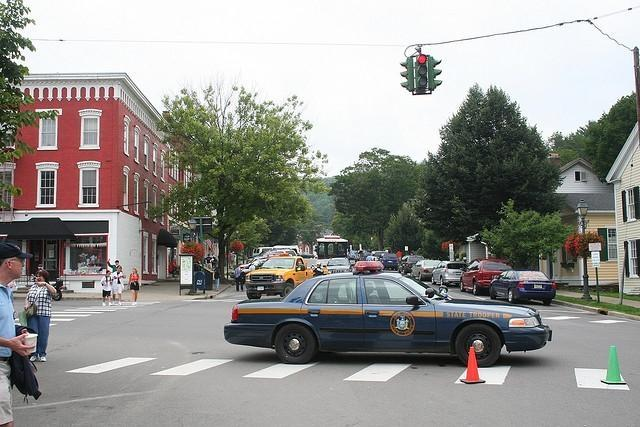bus: (314, 233, 351, 266)
car: (223, 254, 552, 369), (244, 252, 330, 300), (490, 267, 558, 306), (431, 261, 468, 287), (411, 260, 442, 280), (398, 256, 426, 274), (377, 252, 399, 270)
truck: (246, 255, 314, 299), (460, 258, 513, 294)
